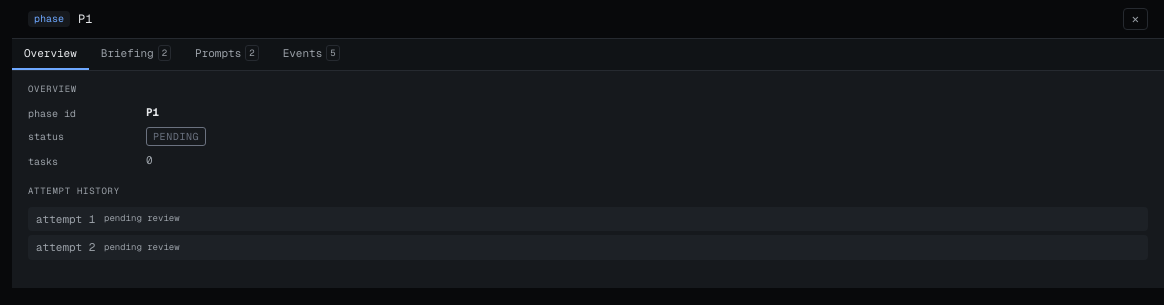
Scenario: Inspector - tab switching › switches to Events tab on click
The width and height of the screenshot is (1164, 305).
Step 1. Click the button with aria-label "Events tab" → coordinates (311, 54), box [271,39,352,70]
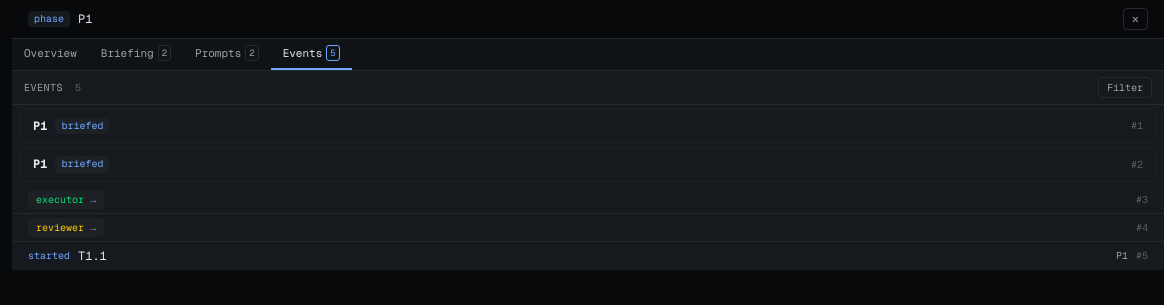
Check: the element with test id "events-tab" is shown
